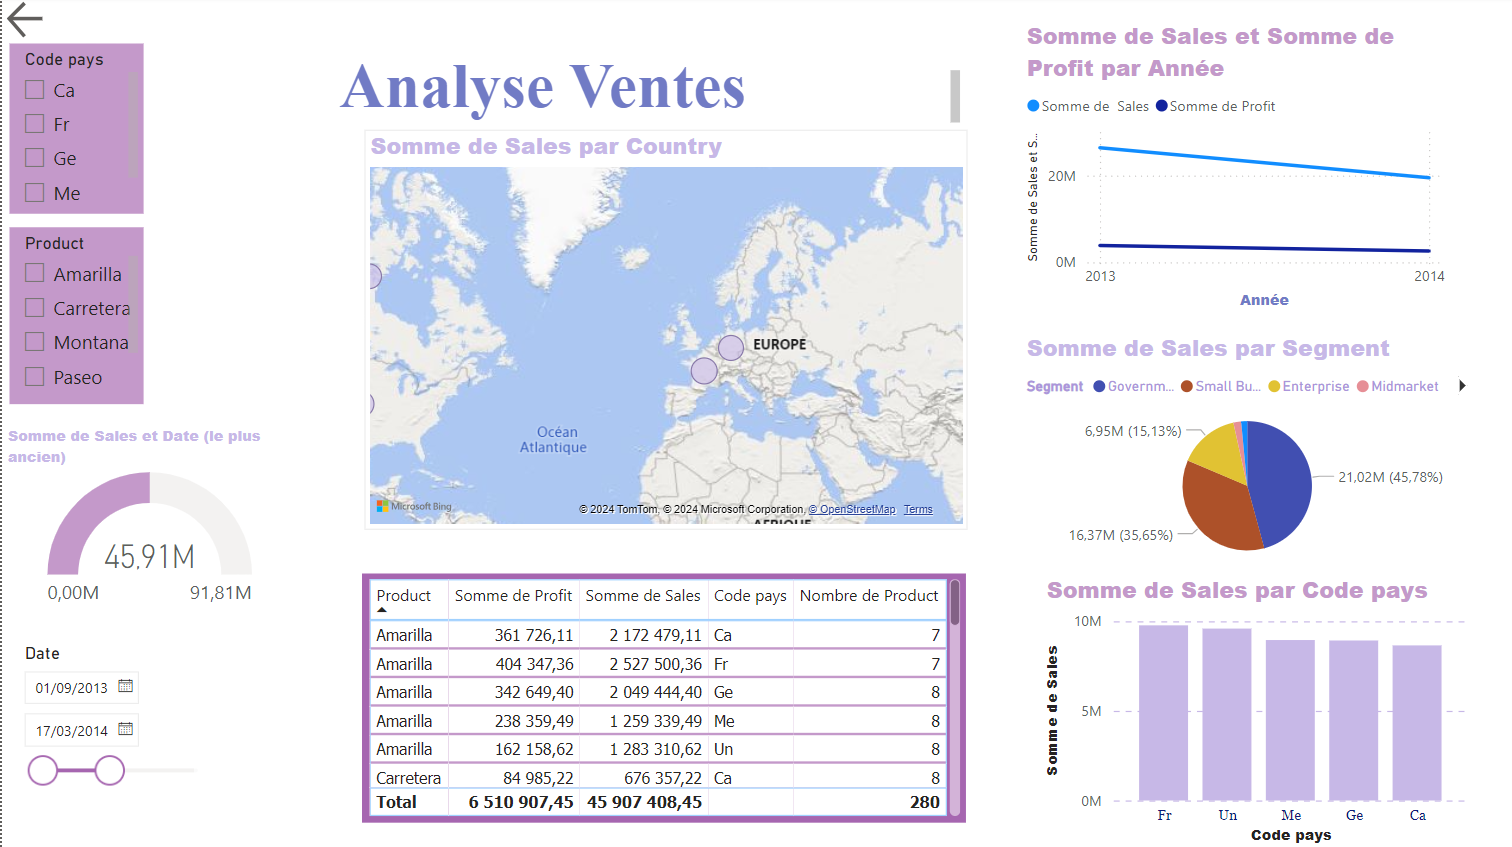

The page's visual inventory and layout, read from the dashboard file:
{"tool":"powerbi","page":{"name":"Page 1","canvas":[1280,720],"ordinal":0},"visuals":[{"type":"tableEx","fields":{"Values":["Sheet1.Product","Sheet1.Profit","Sheet1. Sales","Sheet1.Code pays","Sheet1.Product"]},"box":[302.3,486,508.1,209.3],"z":0},{"type":"clusteredColumnChart","fields":{"Y":["Sheet1. Sales"],"Category":["Sheet1.Code pays"]},"box":[873.3,486,365.1,233.7],"z":1000},{"type":"pieChart","fields":{"Y":["Sheet1. Sales"],"Category":["Sheet1.Segment"]},"box":[857,281.4,381.4,204.7],"z":2000},{"type":"map","fields":{"Size":["Sheet1. Sales"],"Category":["Sheet1.Country"]},"box":[304.7,112.8,508.1,336],"z":3000},{"type":"lineChart","fields":{"Category":["Sheet1.Date.Variation.Hiérarchie de dates.Année","Sheet1.Date.Variation.Hiérarchie de dates.Trimestre","Sheet1.Date.Variation.Hiérarchie de dates.Mois","Sheet1.Date.Variation.Hiérarchie de dates.Jour"],"Y":["Sheet1. Sales","Sheet1.Profit"]},"box":[857,19.8,361.6,248.8],"z":4000},{"type":"slicer","fields":{"Values":["Sheet1.Code pays"]},"box":[5.8,39.5,112.8,143],"z":5000},{"type":"slicer","fields":{"Values":["Sheet1.Product"]},"box":[5.8,194.2,112.8,148.8],"z":6000},{"type":"actionButton","box":[0,0,100,40],"z":7000},{"type":"textbox","box":[278.6,0,532,111.4],"z":8000},{"type":"gauge","fields":{"Y":["Sheet1. Sales"]},"box":[0,360.5,248.8,162.8],"z":9000},{"type":"slicer","fields":{"Values":["Sheet1.Date"]},"box":[5.8,539.5,179.1,155.8],"z":10000}]}

Visuals, with their boxes in screenshot pixels (x1, y1, x2, y2), scaled from the page's 1280x720 canvas onto the 1512x847 screenshot:
tableEx - Sheet1.Product x Sheet1.Profit: Rect(357, 572, 957, 818)
clusteredColumnChart - Sheet1. Sales x Sheet1.Code pays: Rect(1032, 572, 1463, 846)
pieChart - Sheet1. Sales x Sheet1.Segment: Rect(1012, 331, 1463, 572)
map - Sheet1. Sales x Sheet1.Country: Rect(360, 133, 960, 528)
lineChart - Sheet1.Date.Variation.Hiérarchie de dates.Année x Sheet1.Date.Variation.Hiérarchie de dates.Trimestre: Rect(1012, 23, 1439, 316)
slicer - Sheet1.Code pays: Rect(7, 46, 140, 215)
slicer - Sheet1.Product: Rect(7, 228, 140, 404)
actionButton: Rect(0, 0, 118, 47)
textbox: Rect(329, 0, 958, 131)
gauge - Sheet1. Sales: Rect(0, 424, 294, 616)
slicer - Sheet1.Date: Rect(7, 635, 218, 818)
